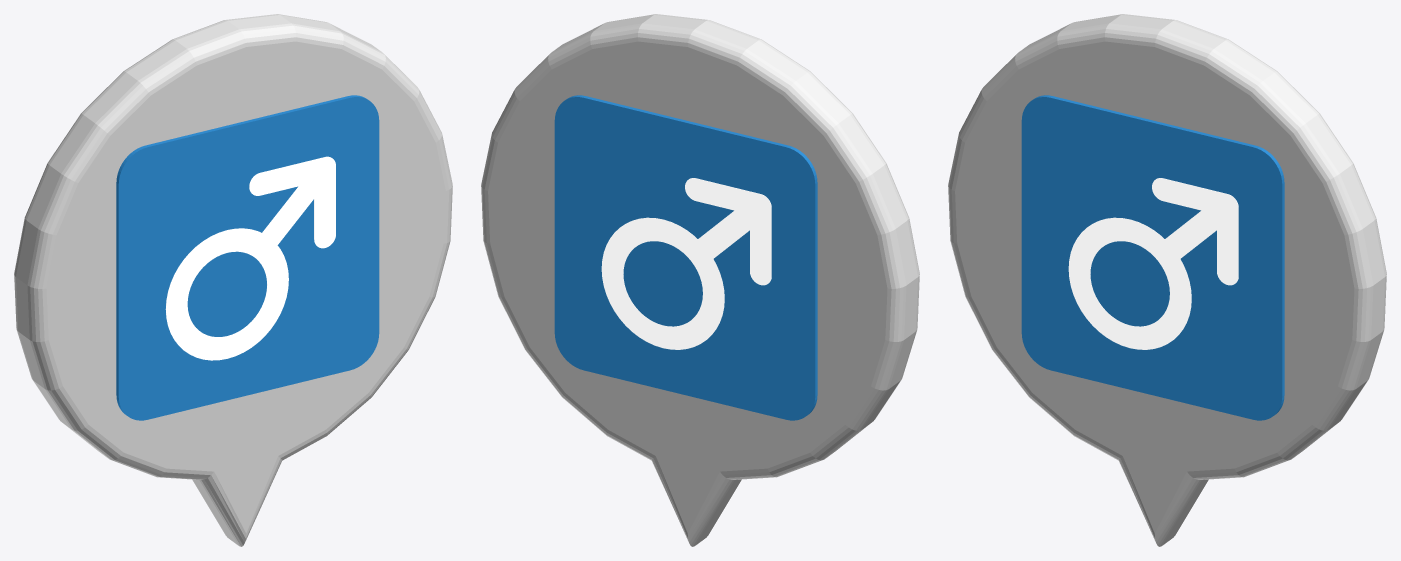
File: male_sign.glb
3 views of the same model, side by side, from view 1: azimuth 30°, elevation 25°; view 2: azimuth 150°, elevation 25°; view 3: azimuth 330°, elevation 25° (orthographic).
Parts seen in each view (by area): view 1: EmotionBubble; view 2: EmotionBubble; view 3: EmotionBubble.
Part boxes in pixels (x1,y1,x2,y2): EmotionBubble: (14, 14, 452, 546); EmotionBubble: (481, 14, 919, 546); EmotionBubble: (948, 14, 1386, 546).
Bounding box in the file's own units: 5.29 × 6.16 × 0.682.
